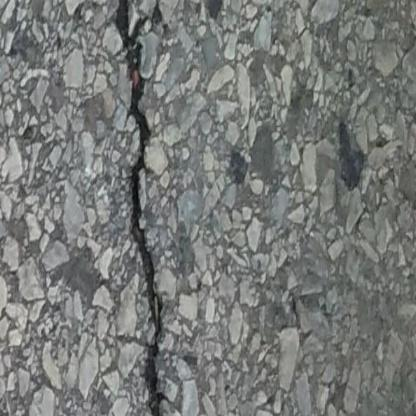Cracks: (105, 0, 174, 416)
